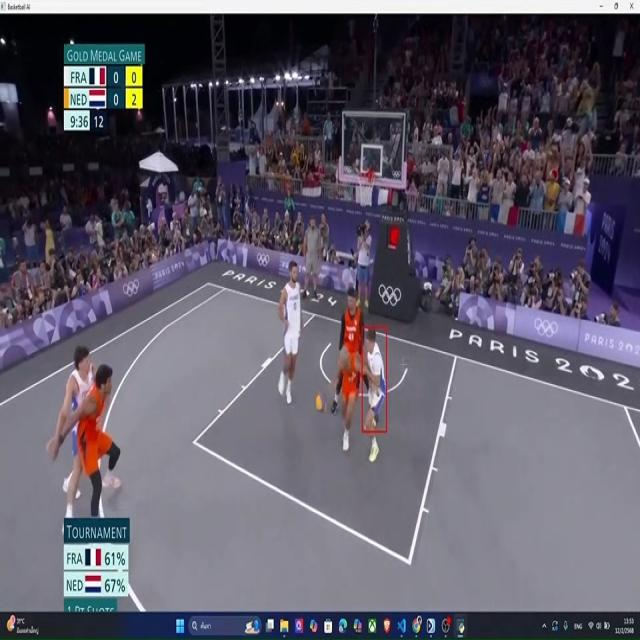basketball: (313, 392, 328, 416)
hoop: (357, 173, 375, 208)
